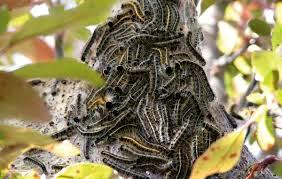Caterpillar: (80, 22, 102, 66), (120, 133, 161, 156), (128, 33, 183, 50), (168, 114, 192, 152), (185, 32, 206, 65), (24, 154, 48, 173), (148, 54, 158, 97), (83, 137, 92, 160)
